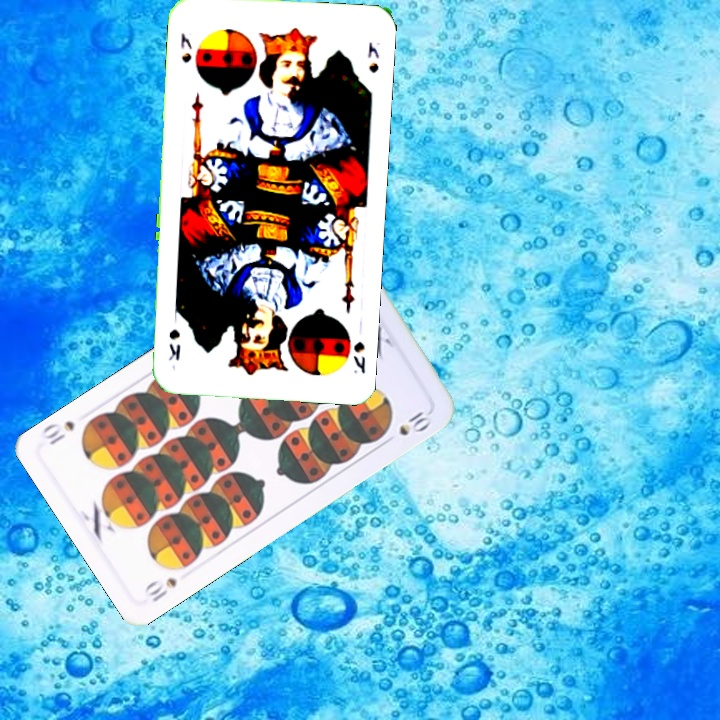S10: (140, 573, 180, 605)
SK: (349, 338, 368, 376), (176, 29, 194, 65)
